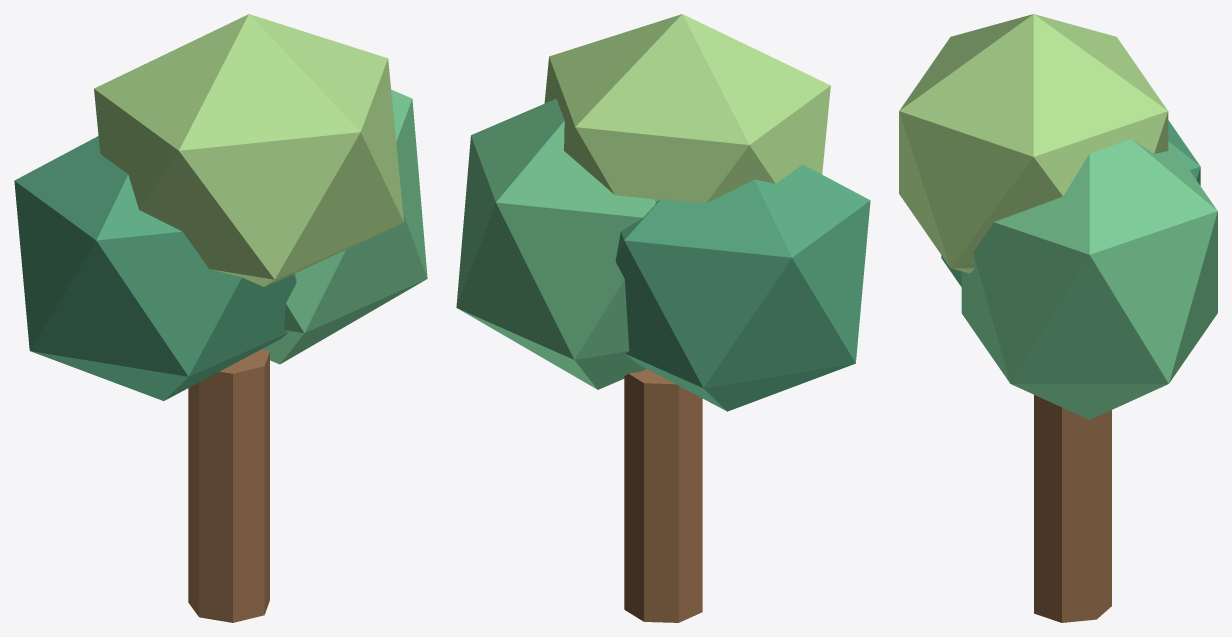
Rendered from NAT_TREE_OAK_1x1_002.glb.
3 views of the same model, side by side, from view 1: azimuth 30°, elevation 25°; view 2: azimuth 150°, elevation 25°; view 3: azimuth 270°, elevation 25° (orthographic). The views are drawn at different scales.
Parts seen in each view (by area): view 1: NAT_TREE_OAK_1x1_002_Visual; view 2: NAT_TREE_OAK_1x1_002_Visual; view 3: NAT_TREE_OAK_1x1_002_Visual.
Part boxes in pixels (left/top/right/bottom): NAT_TREE_OAK_1x1_002_Visual: left=14, top=14, right=427, bottom=622; NAT_TREE_OAK_1x1_002_Visual: left=456, top=14, right=870, bottom=622; NAT_TREE_OAK_1x1_002_Visual: left=899, top=14, right=1217, bottom=622.
Size of what is drawn, in the model's own units: 1.19 by 1.75 by 0.8534.
